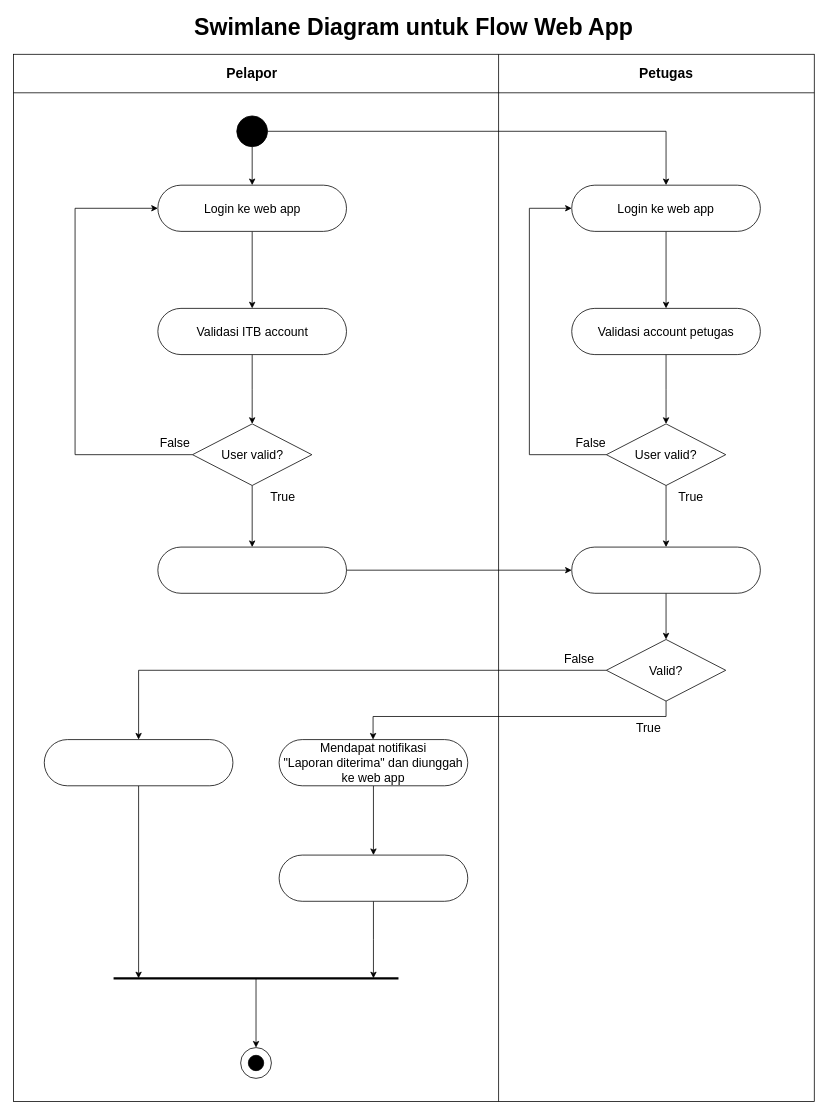
This 828x1115 diagram has some shape labels left out. The shapes that lost their labels are listed below. From the top down, each one's box as (x1, y1, x2, y2) in pixels, then its label:
(157, 546, 346, 593): Lapor masalah dengan fasilitas air dan/atau sanitasi
(571, 546, 760, 593): Validasi laporan
(44, 739, 233, 786): Mendapat notifikasi "Laporan ditolak"
(278, 854, 468, 901): Mendapat poin
